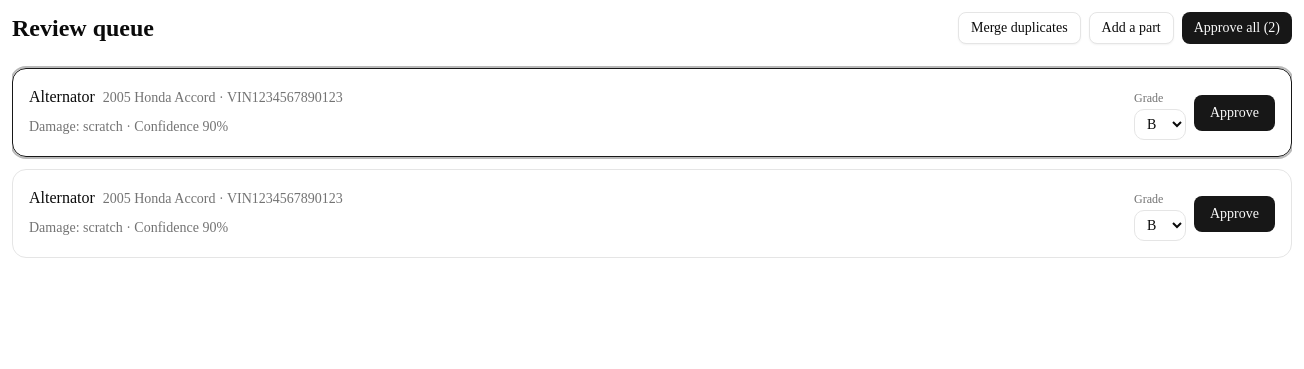
ReviewQueuePage › Merge duplicates › disables the merge action until two or more items are selected
Expected: the option with test id "review-item-a" is shown, x1=12 y1=68 x2=1292 y2=157
Click the button "Merge duplicates". click: (1019, 28)
box: x1=958 y1=12 x2=1080 y2=44
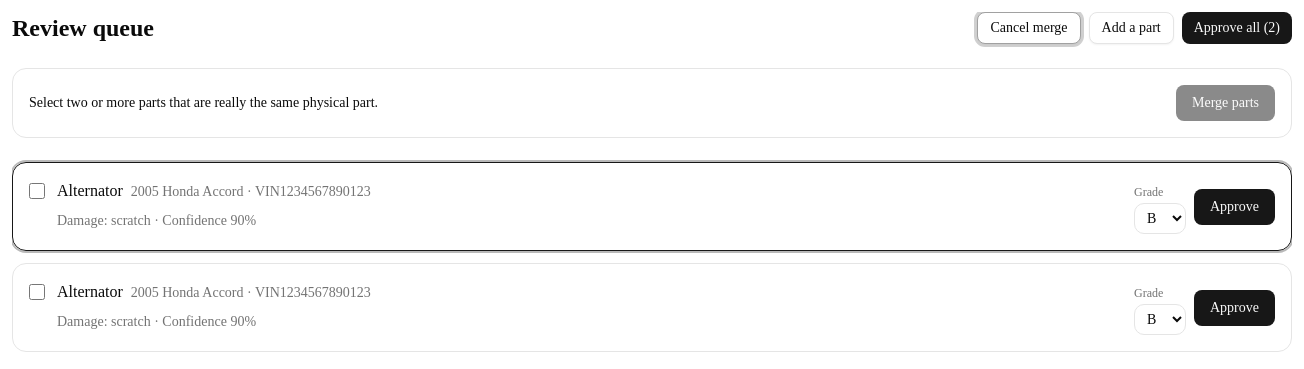
Expected: the button "Merge parts" is disabled, x1=1176 y1=85 x2=1275 y2=121
Click the 1st checkbox named "Select Alternator for merge". click: (37, 191)
box: x1=29 y1=183 x2=45 y2=199
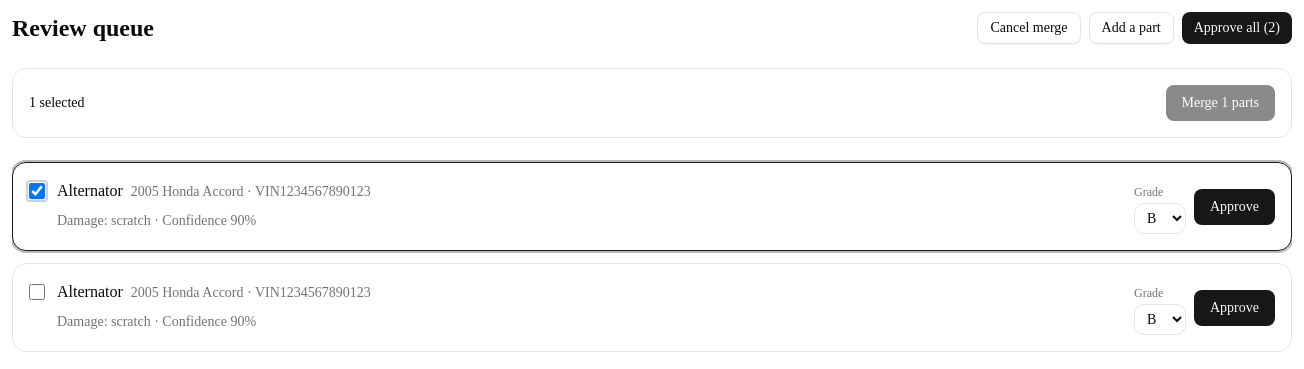
Expected: the button "Merge 1 parts" is disabled, x1=1166 y1=85 x2=1275 y2=121
Click the 2nd checkbox named "Select Alternator for merge". click: (37, 292)
box: x1=29 y1=284 x2=45 y2=300
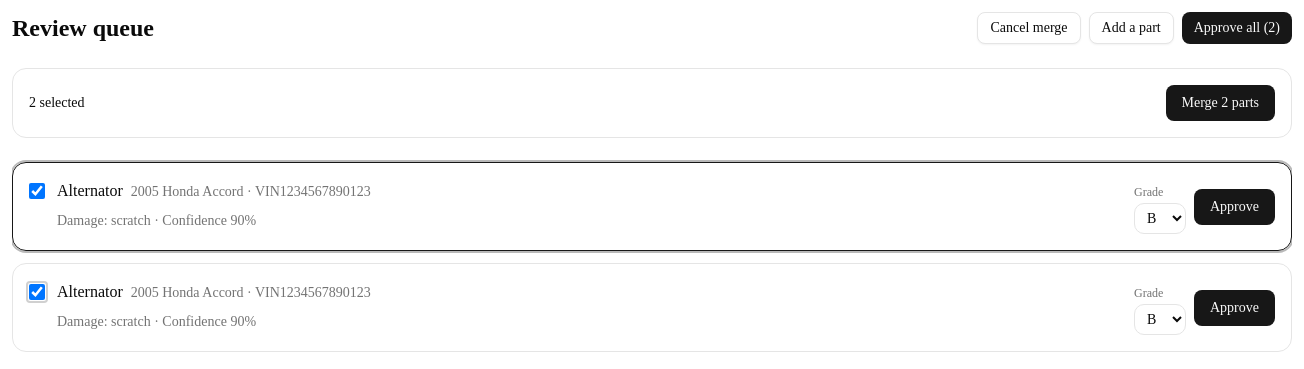
Expected: the button "Merge 2 parts" is enabled, x1=1166 y1=85 x2=1275 y2=121
